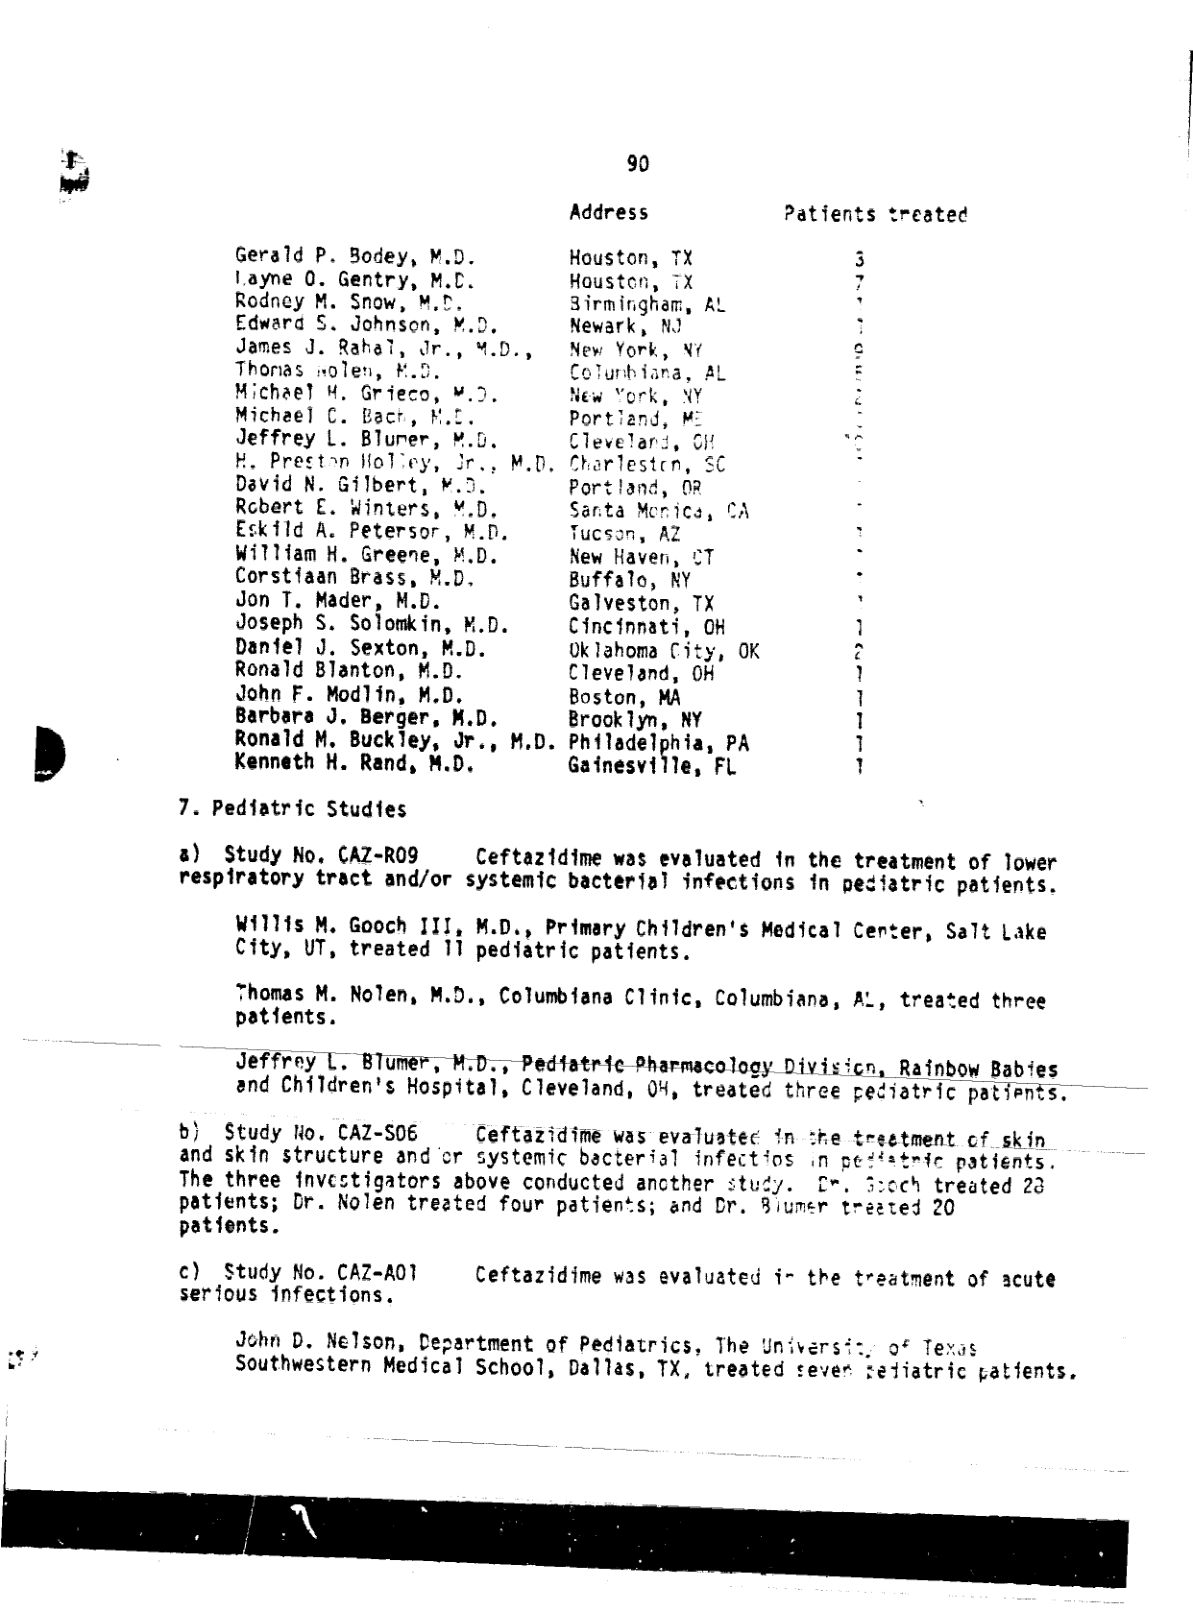nolines: (227, 200, 967, 775)
